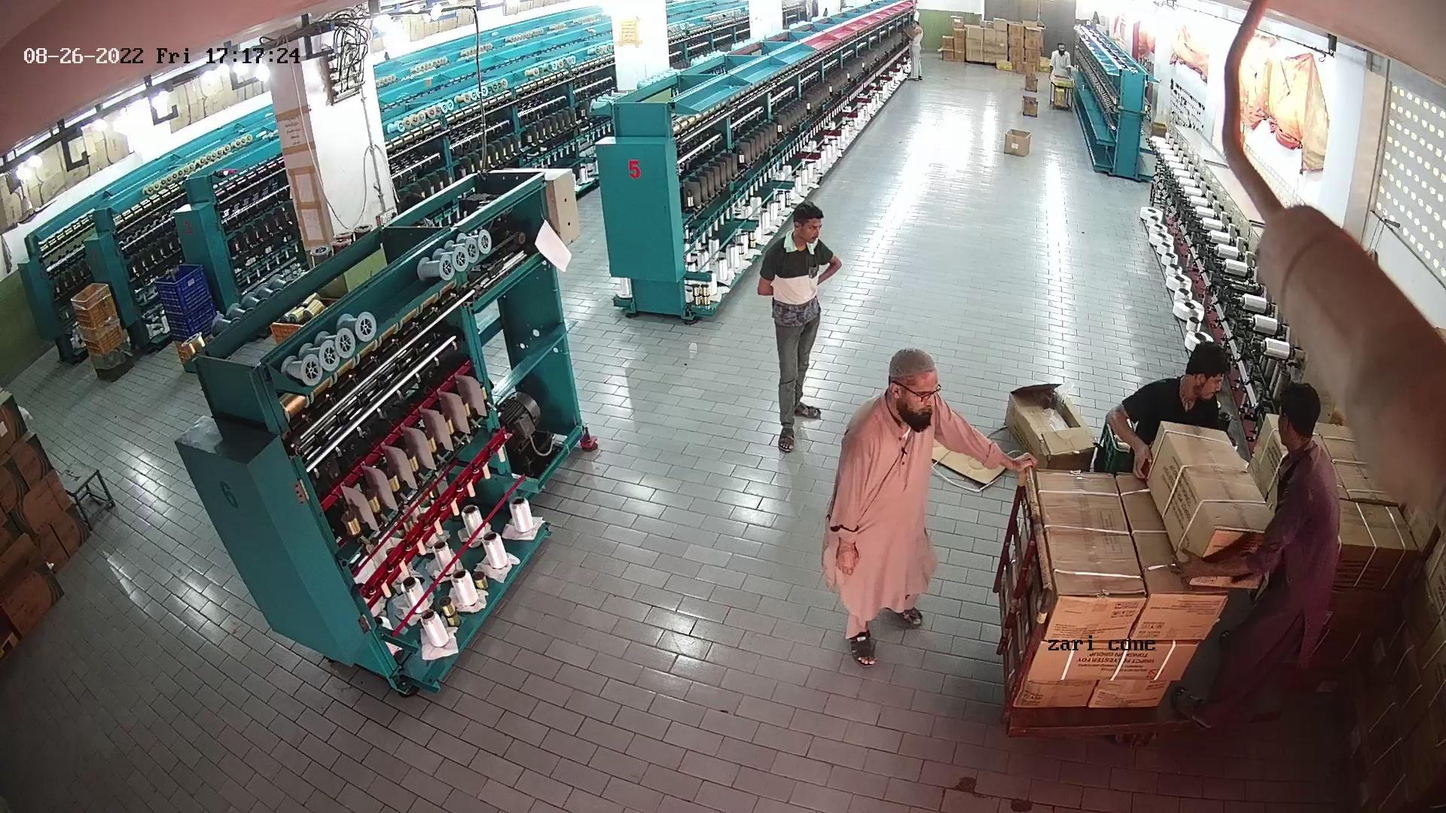person: (829, 342, 971, 677), (1127, 336, 1238, 494), (769, 197, 825, 452), (1051, 39, 1077, 119)
